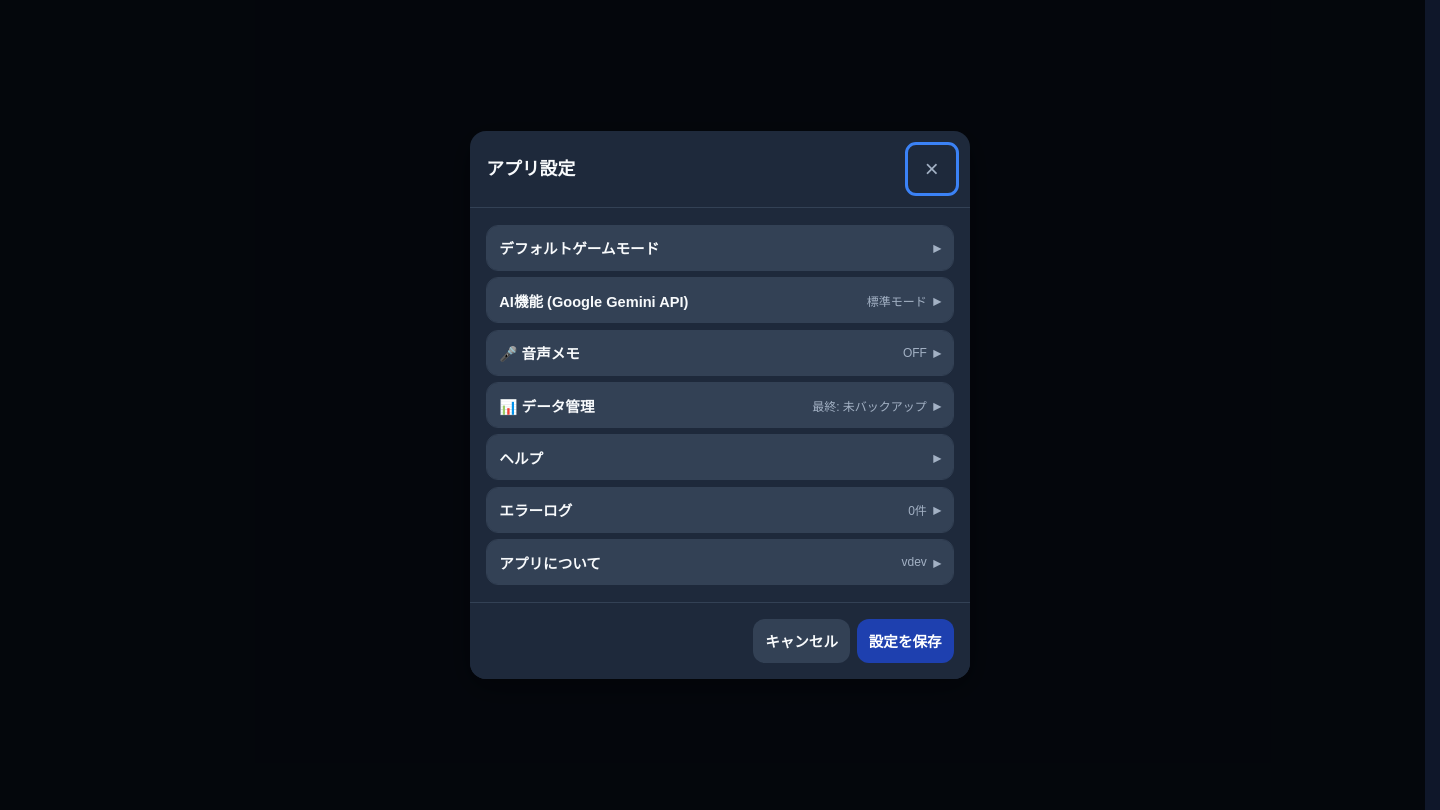
Test case: AppSettingsModal 復元UIの配置 › 「データを貼り付けて復元」押下後、貼り付けパネルはボタンより後ろに出る
Step 1. Click the button "📊 データ管理 最終: 未バックアップ ▸" → (547, 406), box [487,383,953,427]
(page scrolled)
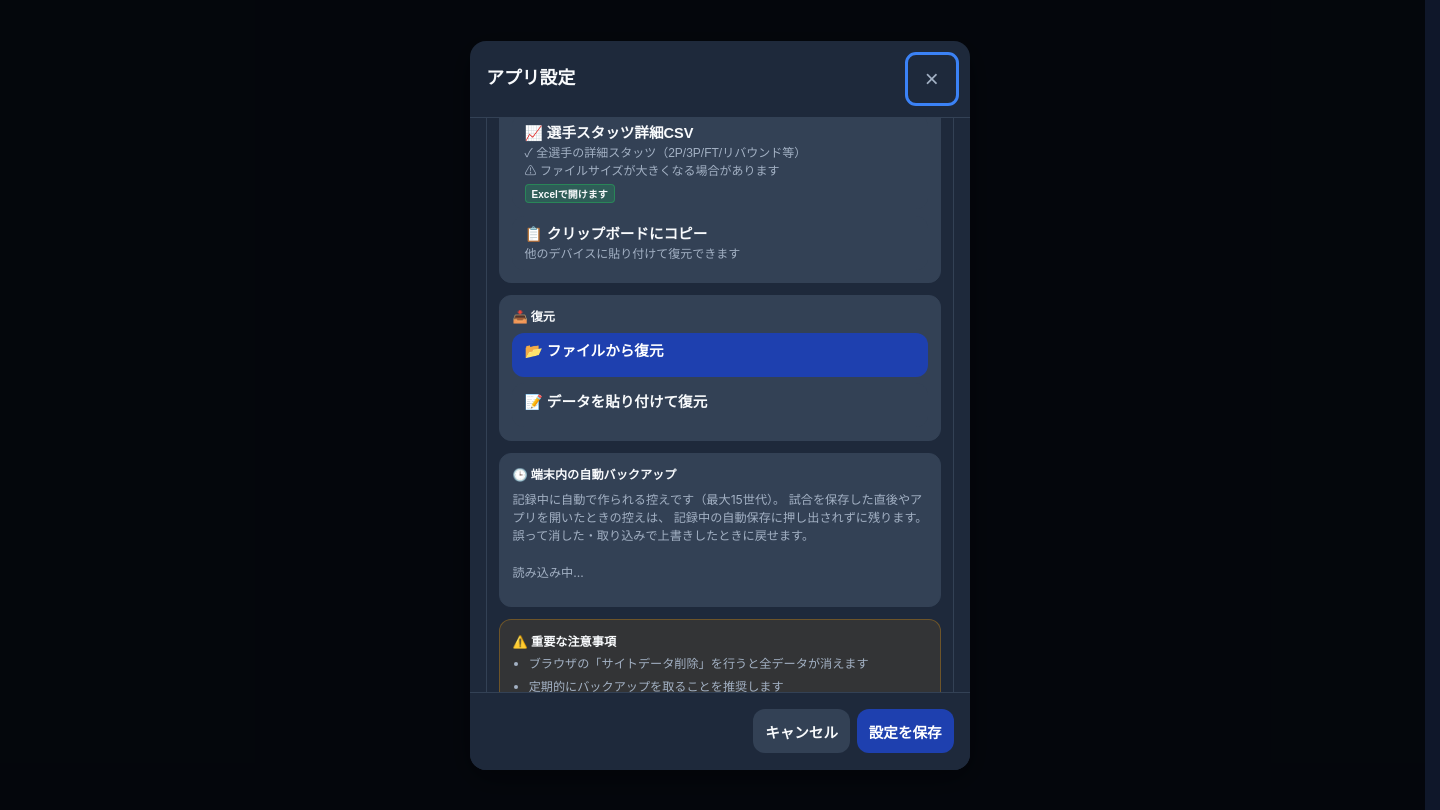
Step 2. Click the button "📝 データを貼り付けて復元" → (616, 402), box [512,383,928,427]
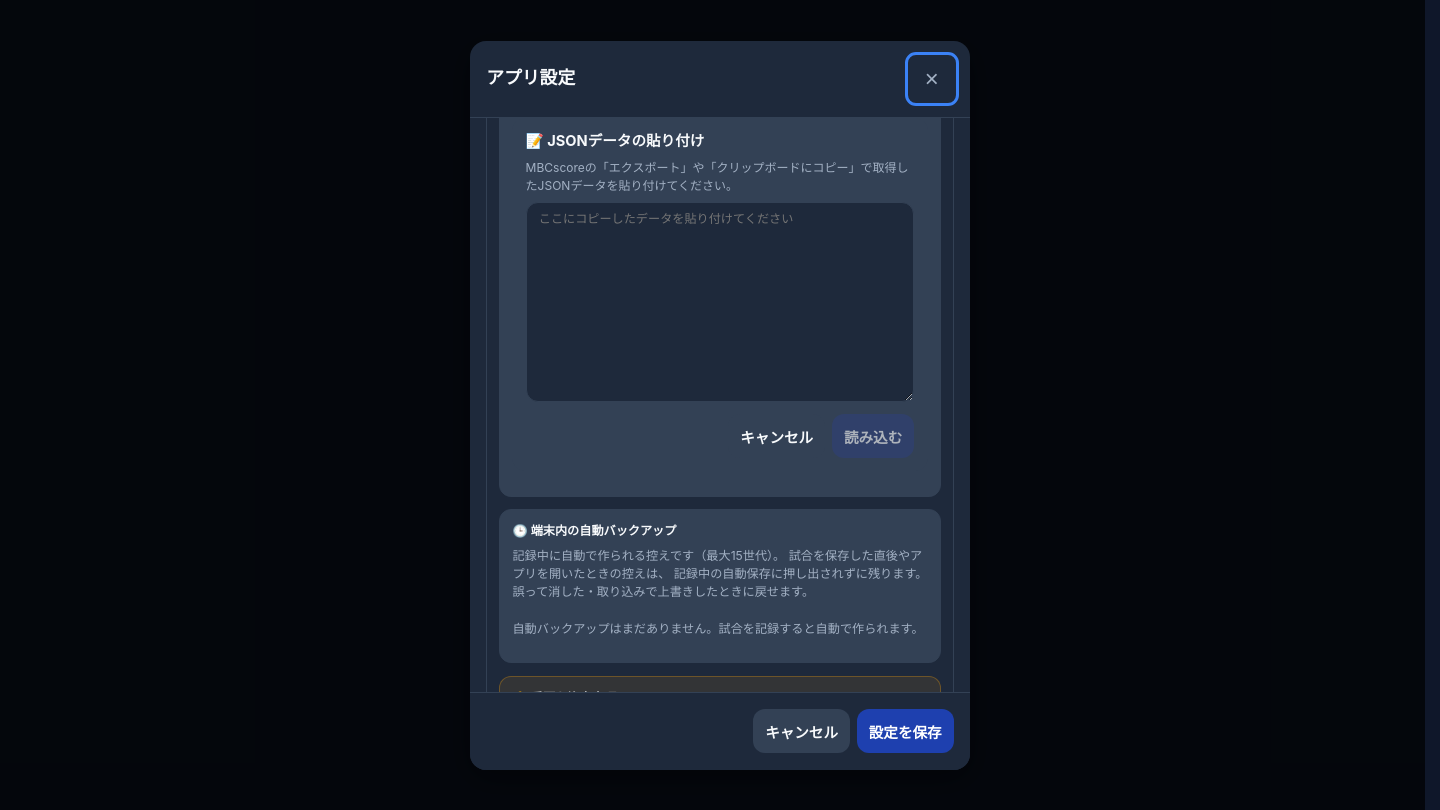
Now the element that starts with "📝 JSONデータの貼り付け" is shown, box [512,118,928,471]
